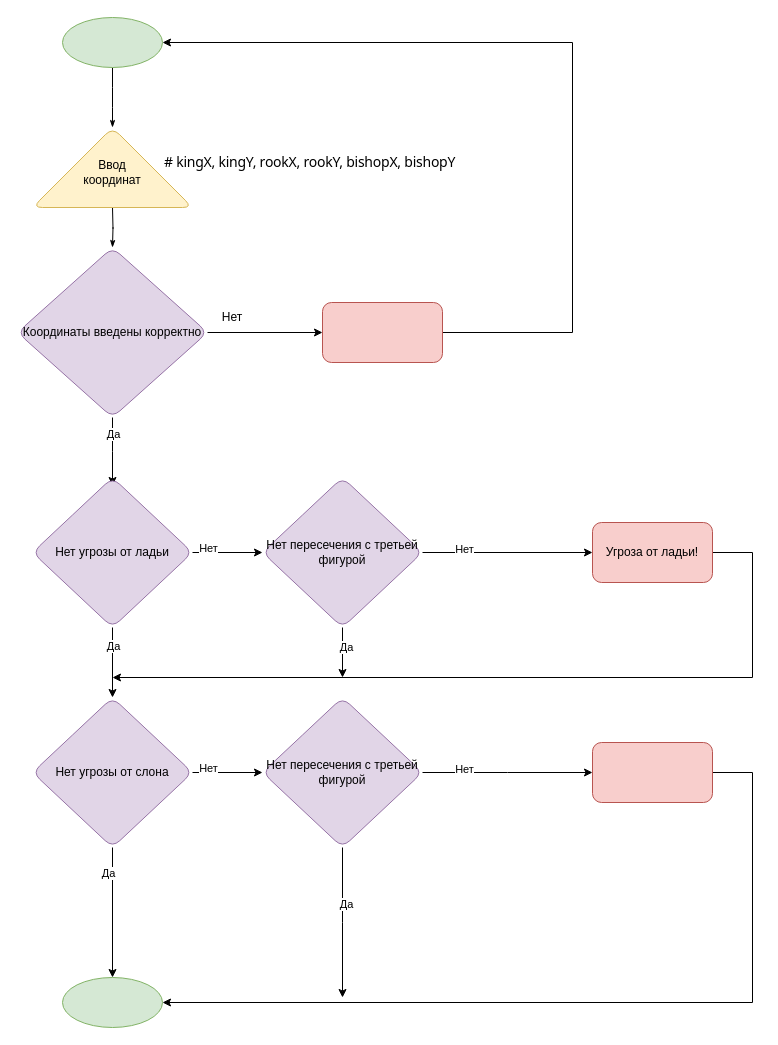
Image size: 778x1045. Some labels were removed from this diagram. Here are the shapes that lost their labels. From the top down, the centre of each, then its label:
At (x=112, y=42): "Начало".
At (x=382, y=332): "Ошибка программы".
At (x=652, y=772): "Угроза от слона!".
At (x=112, y=1002): "Конец".
